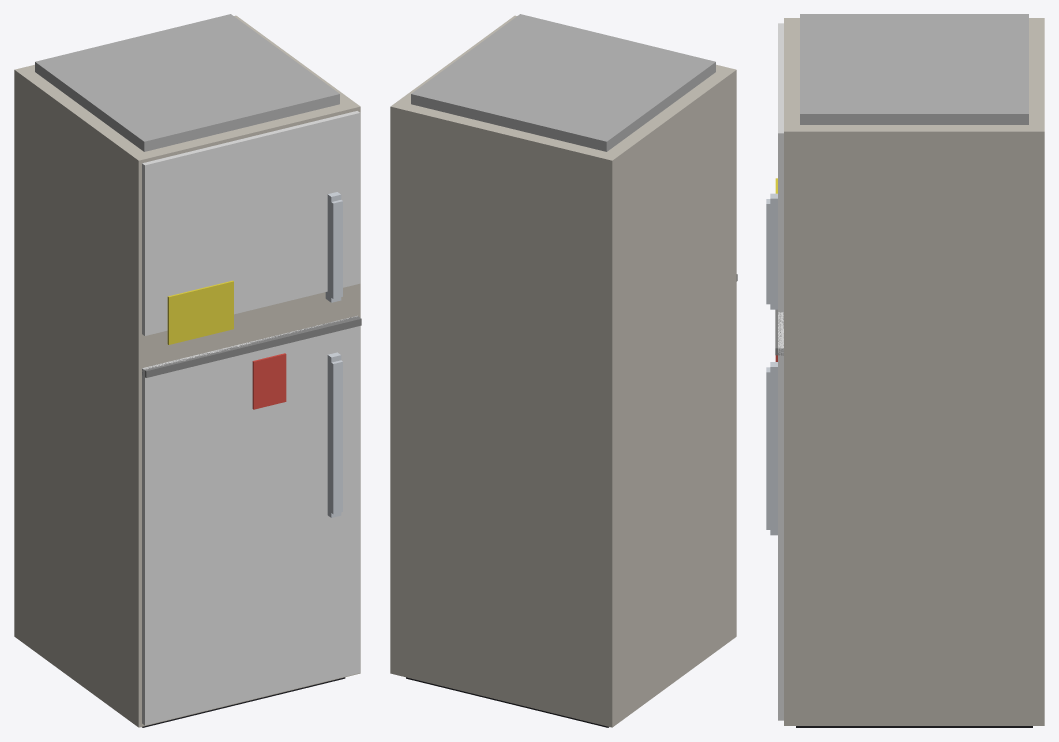
Rendered from fridge.glb.
The picture shows the model from 3 angles, left to right: view 1: azimuth 30°, elevation 25°; view 2: azimuth 150°, elevation 25°; view 3: azimuth 270°, elevation 25°; orthographic projection. The views are drawn at different scales.
Visible parts, largest first — view 1: fridge; view 2: fridge; view 3: fridge.
Boxes of the visible parts, x1,y1,x2,y2 form: fridge: (14, 14, 361, 727); fridge: (390, 14, 737, 727); fridge: (766, 14, 1044, 727).
Bounding box in the file's own units: 0.68 × 1.71 × 0.705.
